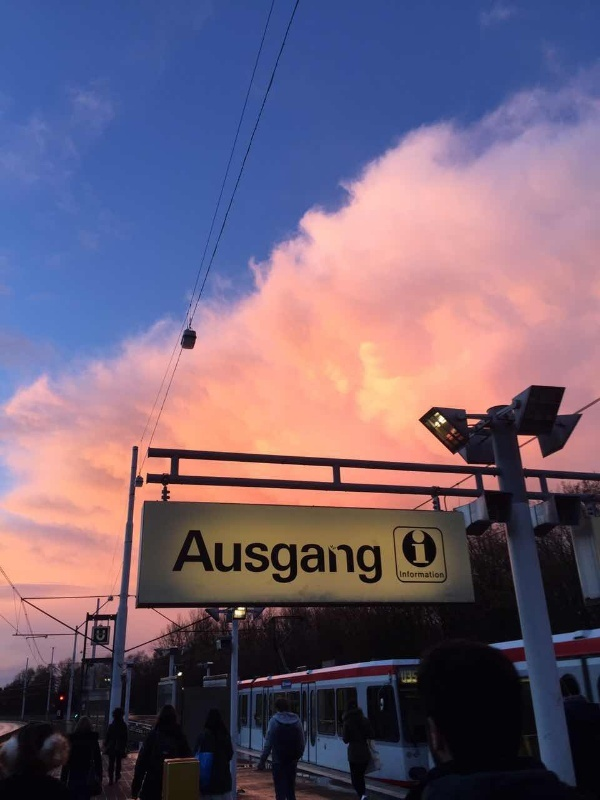text: (193, 530, 208, 600), (209, 530, 224, 600), (225, 530, 240, 600), (241, 530, 256, 600), (257, 530, 272, 600), (273, 530, 288, 600), (289, 530, 304, 600), (305, 530, 320, 600), (321, 530, 336, 600), (337, 530, 352, 600), (353, 530, 368, 600), (369, 530, 384, 600), (417, 526, 429, 564), (188, 530, 192, 600), (409, 526, 416, 564), (97, 630, 112, 646), (401, 669, 416, 684), (385, 530, 387, 600), (401, 571, 416, 579), (417, 571, 432, 579), (433, 571, 444, 579), (417, 669, 419, 684)
